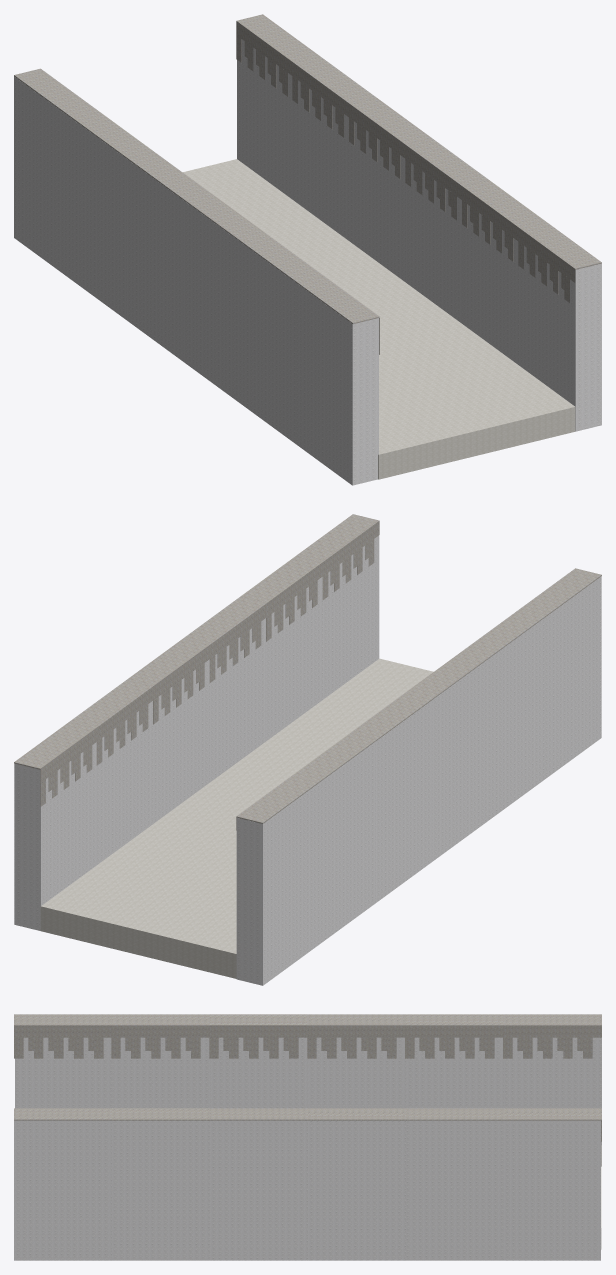
Rendered from EmptyStage.obj.
The picture shows the model from 3 angles, top to bottom: view 1: azimuth 30°, elevation 25°; view 2: azimuth 150°, elevation 25°; view 3: azimuth 270°, elevation 25°; orthographic projection. The views are drawn at different scales.
Visible parts, largest first — view 1: Water1, Dirtpart3, Dirtpart6, Dirtpart5, Dirtpart12, Dirtpart1, Dirtpart4, Dirtpart2, Dirtpart8, Dirtpart11, Dirtpart7, Dirtpart10 (+19 smaller); view 2: Water1, Dirtpart4, Dirtpart9, Dirtpart5, Dirtpart3, Dirtpart12, Dirtpart1, Dirtpart2, Dirtpart6, Dirtpart8, Dirtpart11, Dirtpart10 (+19 smaller); view 3: Dirtpart6, Dirtpart7, Dirtpart8, Dirtpart10, Dirtpart11, Dirtpart9, Dirtpart4, Dirtpart12, Dirtpart1, Dirtpart5, Dirtpart3, Dirtpart2 (+18 smaller).
Part boxes in pixels (x1,y1,x2,y2): Water1: [183, 159, 575, 479]; Dirtpart3: [296, 283, 378, 485]; Dirtpart6: [519, 246, 601, 431]; Dirtpart5: [70, 117, 126, 320]; Dirtpart12: [183, 200, 239, 402]; Dirtpart1: [127, 159, 183, 361]; Dirtpart4: [14, 76, 70, 278]; Dirtpart2: [240, 242, 296, 443]; Dirtpart8: [462, 205, 518, 364]; Dirtpart11: [349, 122, 405, 282]; Dirtpart7: [406, 163, 462, 323]; Dirtpart10: [293, 80, 349, 240]; Water1: [40, 658, 433, 978]; Dirtpart4: [236, 783, 319, 985]; Dirtpart9: [14, 742, 97, 930]; Dirtpart5: [319, 741, 375, 944]; Dirtpart3: [545, 576, 601, 778]; Dirtpart12: [432, 659, 488, 861]; Dirtpart1: [376, 700, 432, 902]; Dirtpart2: [489, 618, 545, 819]; Dirtpart6: [323, 535, 379, 699]; Dirtpart8: [266, 577, 322, 740]; Dirtpart11: [153, 659, 209, 823]; Dirtpart10: [97, 701, 153, 864]; Dirtpart6: [14, 1120, 111, 1260]; Dirtpart7: [210, 1120, 307, 1260]; Dirtpart8: [112, 1120, 209, 1260]; Dirtpart10: [406, 1120, 503, 1260]; Dirtpart11: [308, 1120, 405, 1260]; Dirtpart9: [504, 1120, 600, 1260]; Dirtpart4: [504, 1037, 601, 1166]; Dirtpart12: [210, 1037, 307, 1108]; Dirtpart1: [308, 1037, 405, 1108]; Dirtpart5: [406, 1037, 503, 1108]; Dirtpart3: [15, 1037, 112, 1108]; Dirtpart2: [113, 1037, 209, 1108].
Bounding box in the file's own units: 318 × 199 × 750.
